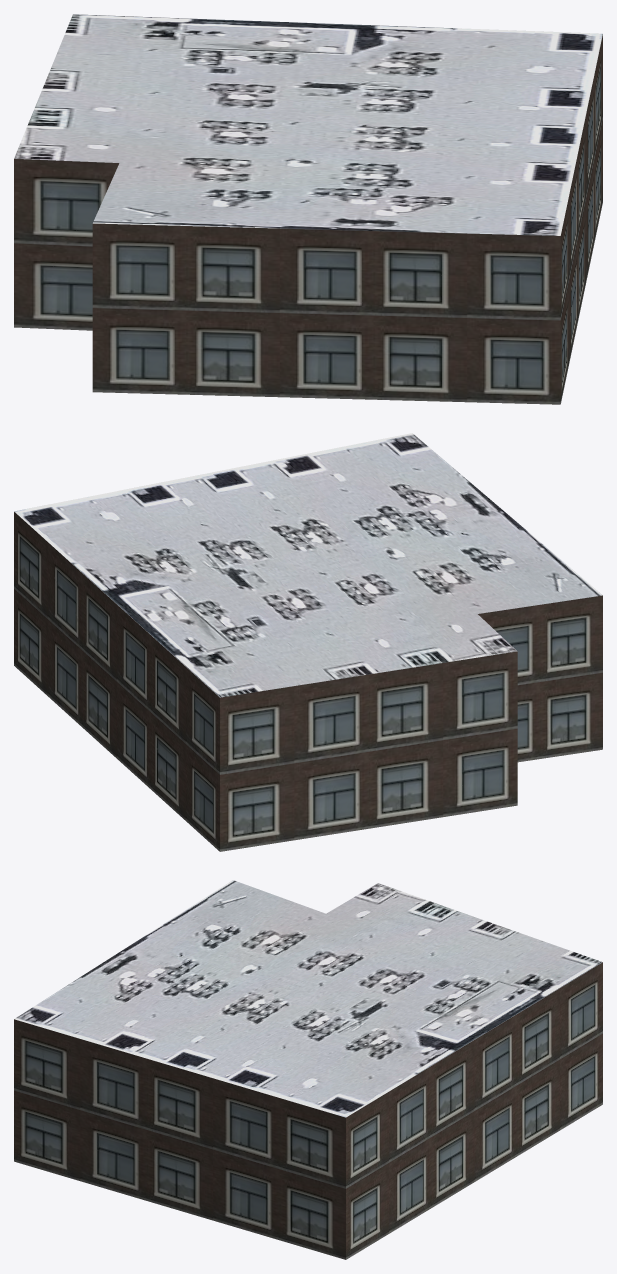
Rendered from ResTex__678.fbx.
The picture shows the model from 3 angles, top to bottom: view 1: azimuth 30°, elevation 25°; view 2: azimuth 150°, elevation 25°; view 3: azimuth 270°, elevation 25°; orthographic projection. The views are drawn at different scales.
Parts seen in each view (by area): view 1: CityEngineMaterial_15_m, CityEngineMaterial_16_m; view 2: CityEngineMaterial_16_m, CityEngineMaterial_15_m; view 3: CityEngineMaterial_16_m, CityEngineMaterial_15_m.
Boxes of the visible parts, x1=… form: CityEngineMaterial_15_m: x1=14, y1=14, x2=602, y2=235; CityEngineMaterial_16_m: x1=14, y1=34, x2=602, y2=404; CityEngineMaterial_16_m: x1=14, y1=512, x2=602, y2=851; CityEngineMaterial_15_m: x1=14, y1=433, x2=602, y2=697; CityEngineMaterial_16_m: x1=14, y1=962, x2=602, y2=1259; CityEngineMaterial_15_m: x1=14, y1=880, x2=602, y2=1117.
Bounding box in the file's own units: 21.48 × 6 × 22.5.
2 materials, 2 textured.
